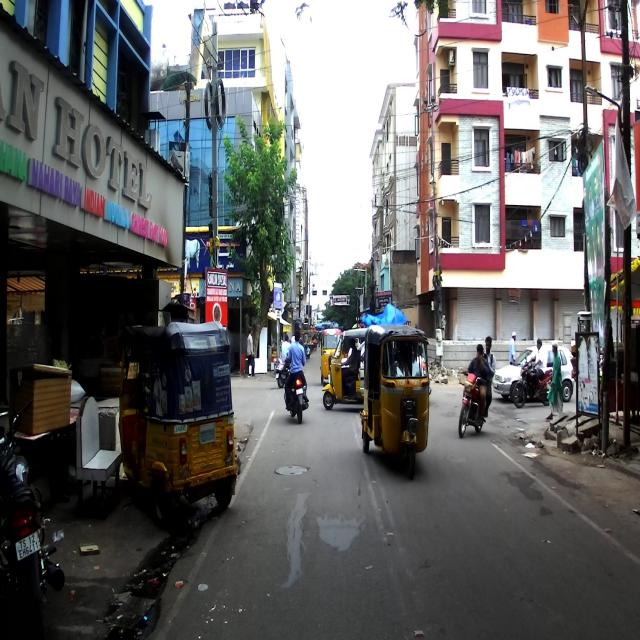autorickshaw: (116, 318, 239, 526), (359, 324, 431, 478)
car: (492, 343, 574, 401)
motorcycle: (0, 396, 66, 639), (457, 370, 489, 437), (282, 351, 310, 425)
